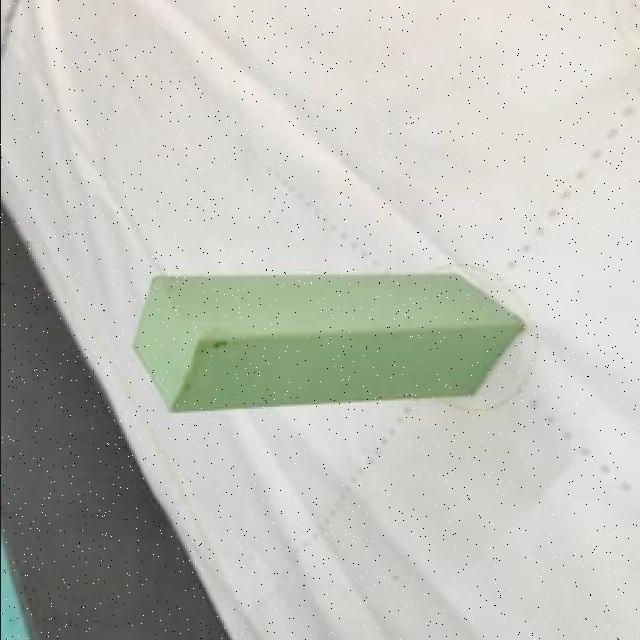greenbox: (126, 275, 524, 417)
